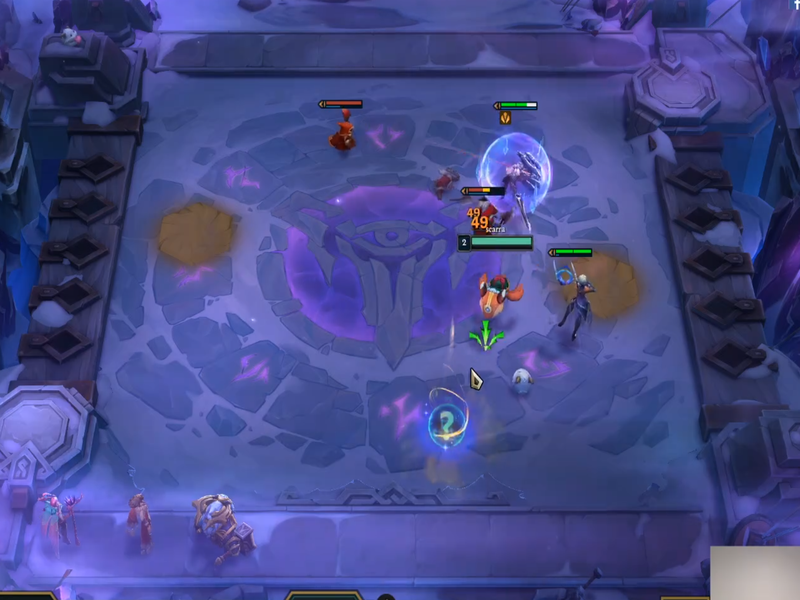blue orb: (424, 401, 470, 452)
karma 1: (550, 264, 597, 350)
leona 1: (494, 150, 547, 231)
